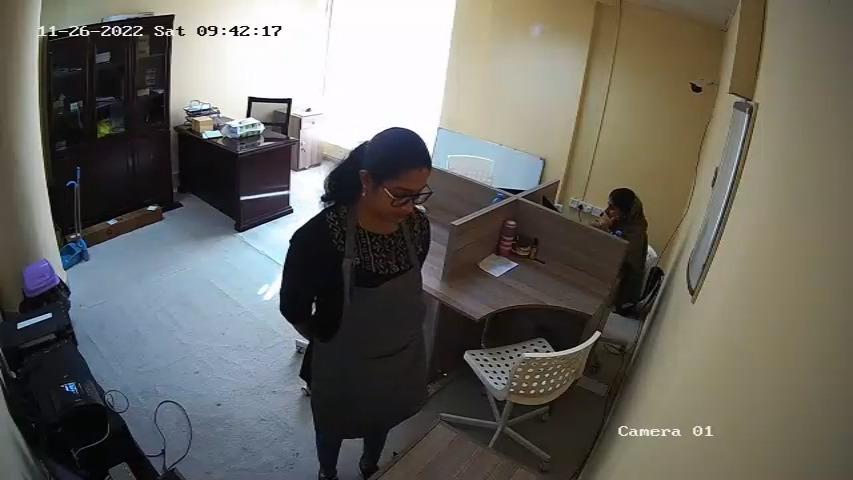apron: (318, 230, 422, 408)
